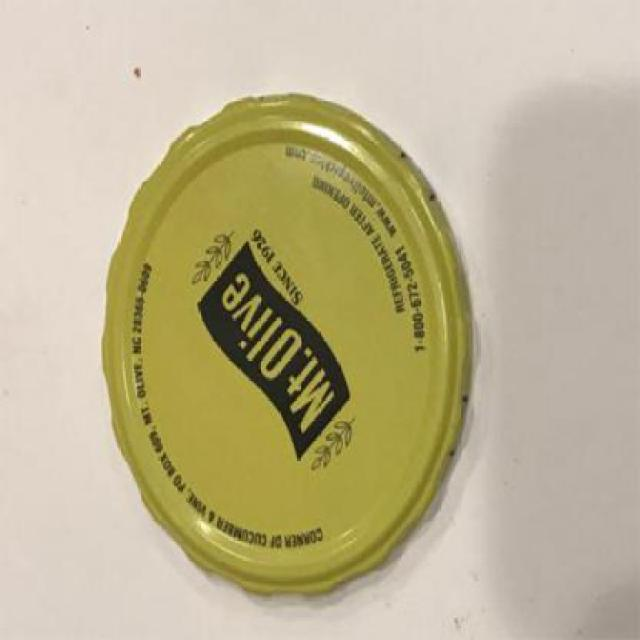Metal: (99, 89, 476, 596)
